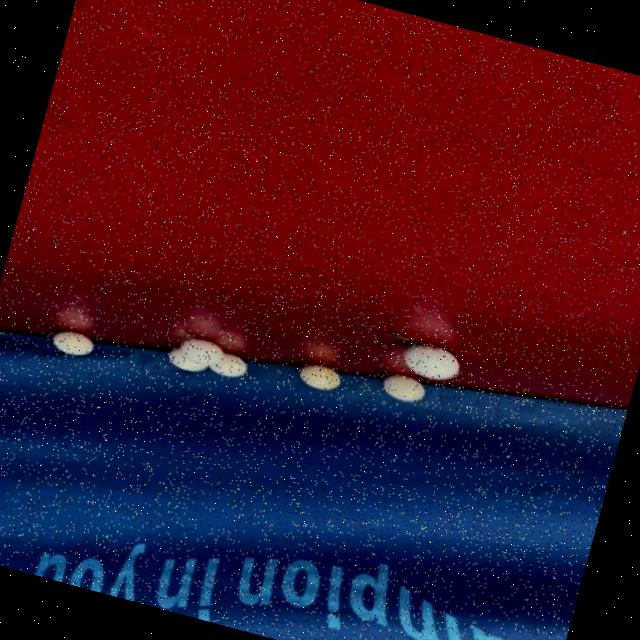ping-pong-ball: (391, 334, 467, 389), (370, 367, 432, 410), (43, 323, 103, 364), (290, 356, 348, 397)
